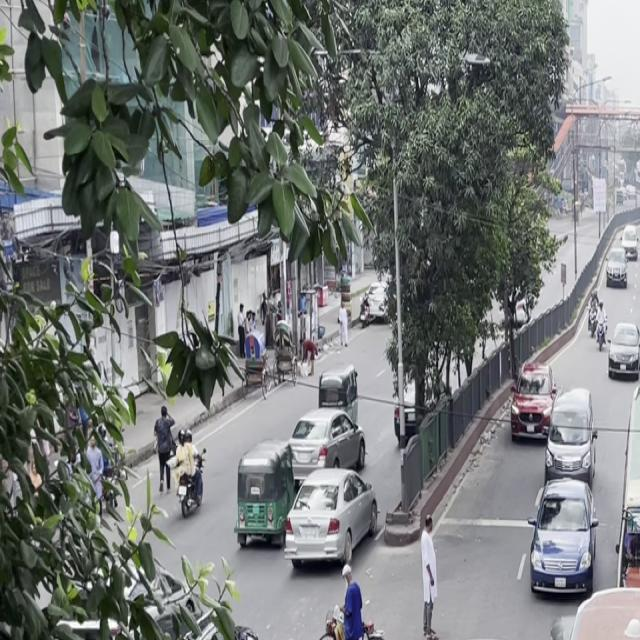bicycle: (308, 575, 399, 640)
bus: (486, 577, 640, 640)
car: (281, 458, 381, 578), (524, 467, 602, 608), (288, 402, 372, 485), (543, 388, 597, 486), (507, 364, 559, 452), (604, 313, 640, 385), (419, 628, 534, 640), (603, 246, 627, 288)
motorbike: (585, 287, 606, 346)
rickshaw: (229, 435, 297, 554)
